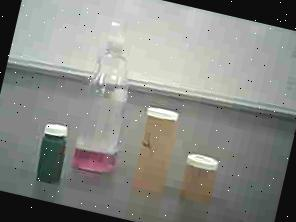Bottle A: (127, 104, 186, 199)
Bottle B: (175, 149, 222, 208)
Bottle C: (28, 120, 76, 187)
hazard: (68, 5, 155, 182)
